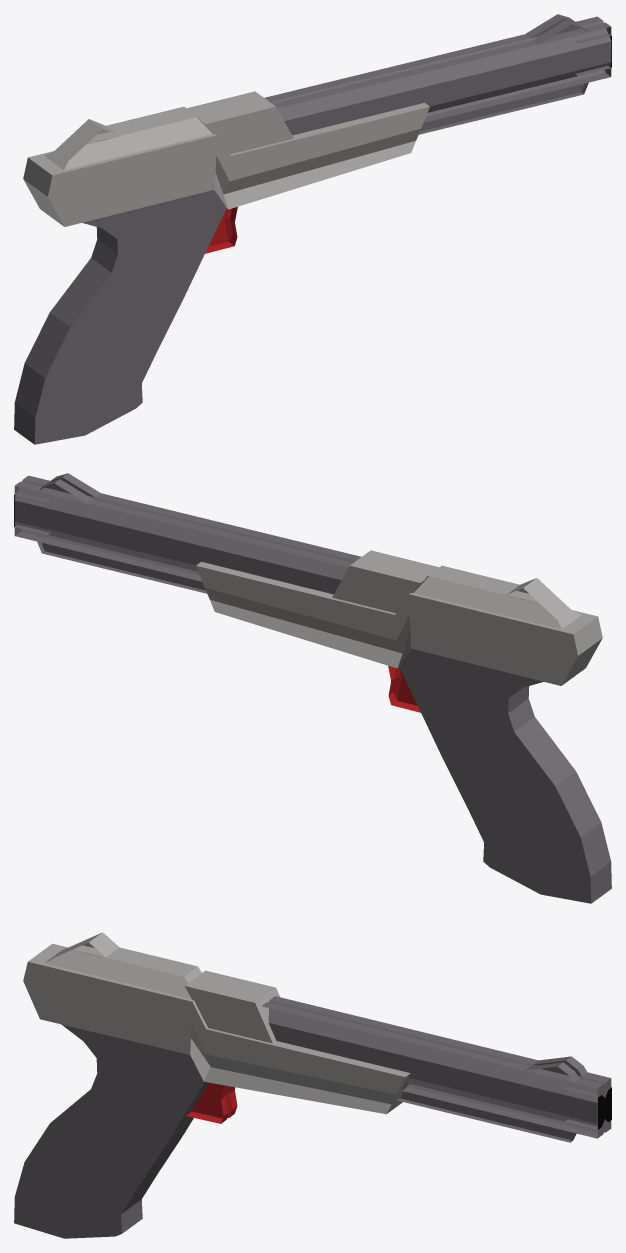
The model's file is N-ZAP_FIX.fbx.
The picture shows the model from 3 angles, top to bottom: view 1: azimuth 30°, elevation 25°; view 2: azimuth 150°, elevation 25°; view 3: azimuth 330°, elevation 25°; orthographic projection.
Parts seen in each view (by area): view 1: N_ZAP; view 2: N_ZAP; view 3: N_ZAP.
Part boxes in pixels (box(x1,y1,x2,y2)): N_ZAP: box(14, 14, 611, 444); N_ZAP: box(14, 473, 611, 903); N_ZAP: box(14, 932, 611, 1238).
Size of the model in its own units: 21.62 by 10.64 by 1.59.
